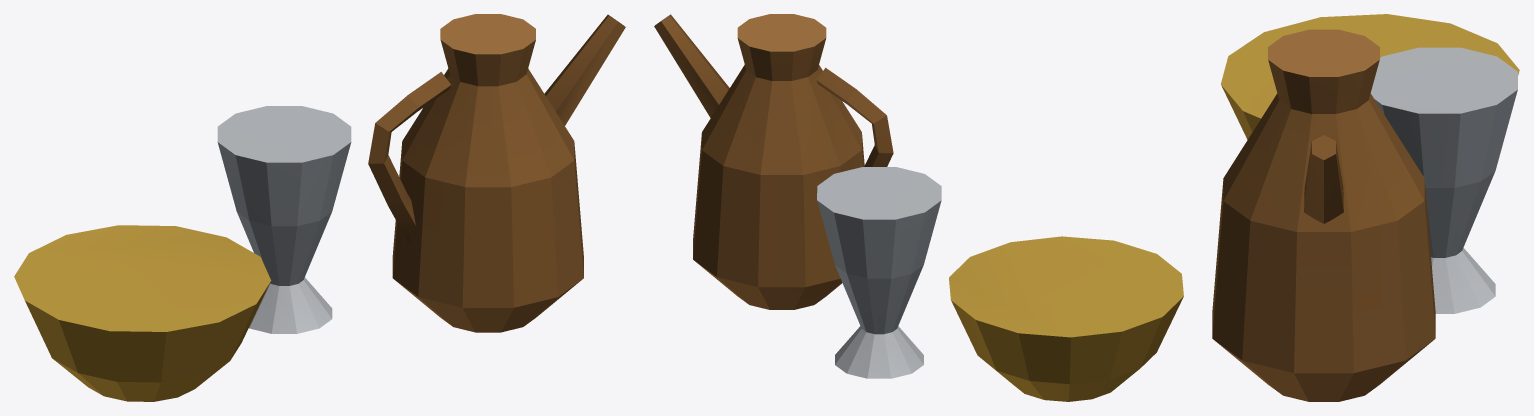
3 renders of one model, left to right at view 1: azimuth 30°, elevation 25°; view 2: azimuth 150°, elevation 25°; view 3: azimuth 270°, elevation 25°, orthographic. The views are drawn at different scales.
Parts seen in each view (by area): view 1: base; view 2: base; view 3: base.
Boxes of the visible parts, x1,y1,x2,y2 form: base: [14, 14, 625, 401]; base: [654, 14, 1183, 401]; base: [1212, 14, 1519, 401].
Size of the model in its own units: 0.6682 by 0.31 by 0.2658.
